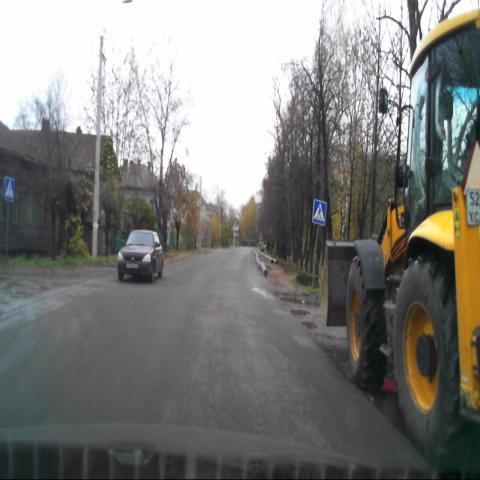5_19_1: (312, 199, 328, 227)
